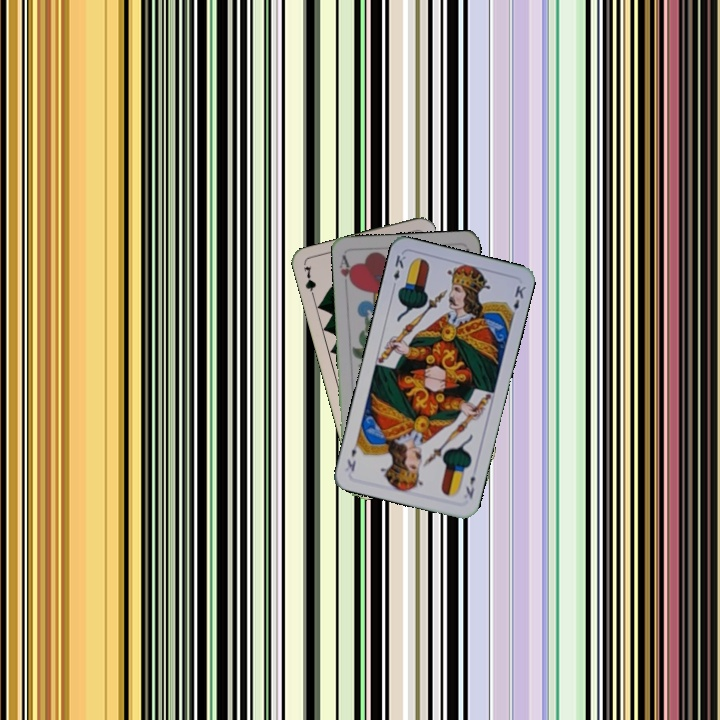EK: (388, 251, 408, 291), (461, 472, 478, 501)
G7: (300, 262, 319, 302)
HA: (335, 251, 356, 292)
